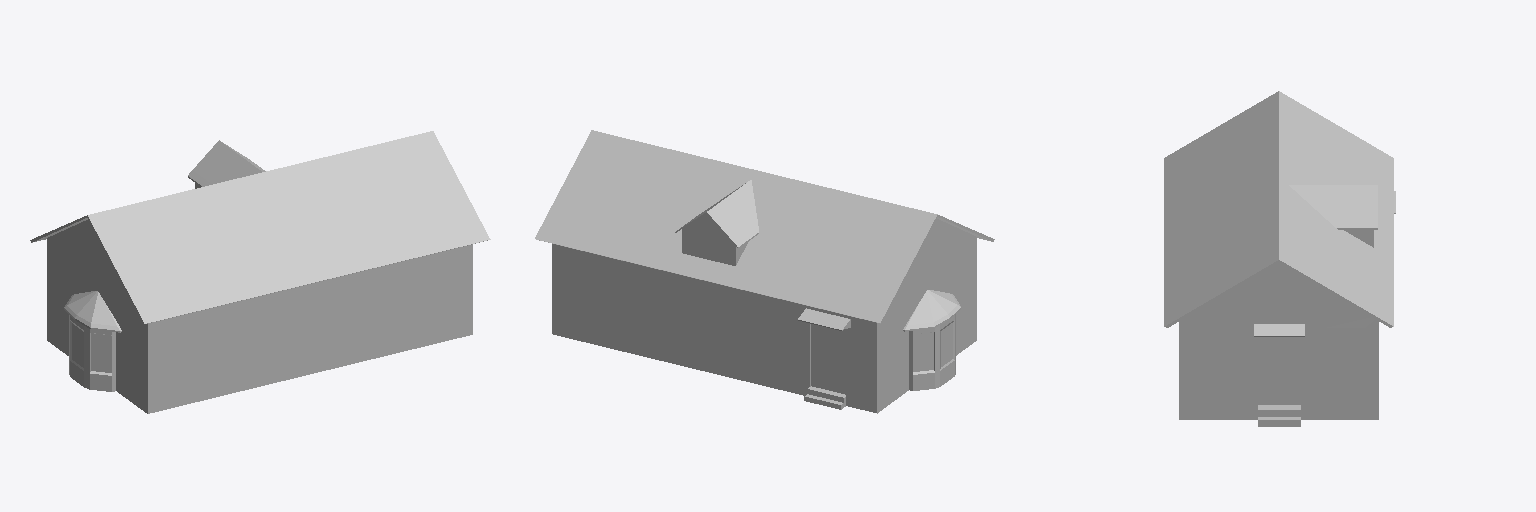
File: cottage.obj
3 views of the same model, side by side, from view 1: azimuth 30°, elevation 25°; view 2: azimuth 150°, elevation 25°; view 3: azimuth 270°, elevation 25° (orthographic).
Visible parts, largest first — view 1: Cube; view 2: Cube; view 3: Cube.
Boxes of the visible parts, box(x1,y1,x2,y2) form: Cube: box(30, 131, 490, 413); Cube: box(535, 130, 994, 413); Cube: box(1164, 91, 1395, 426).
Size of the model in its own units: 33.82 by 14.67 by 18.66.